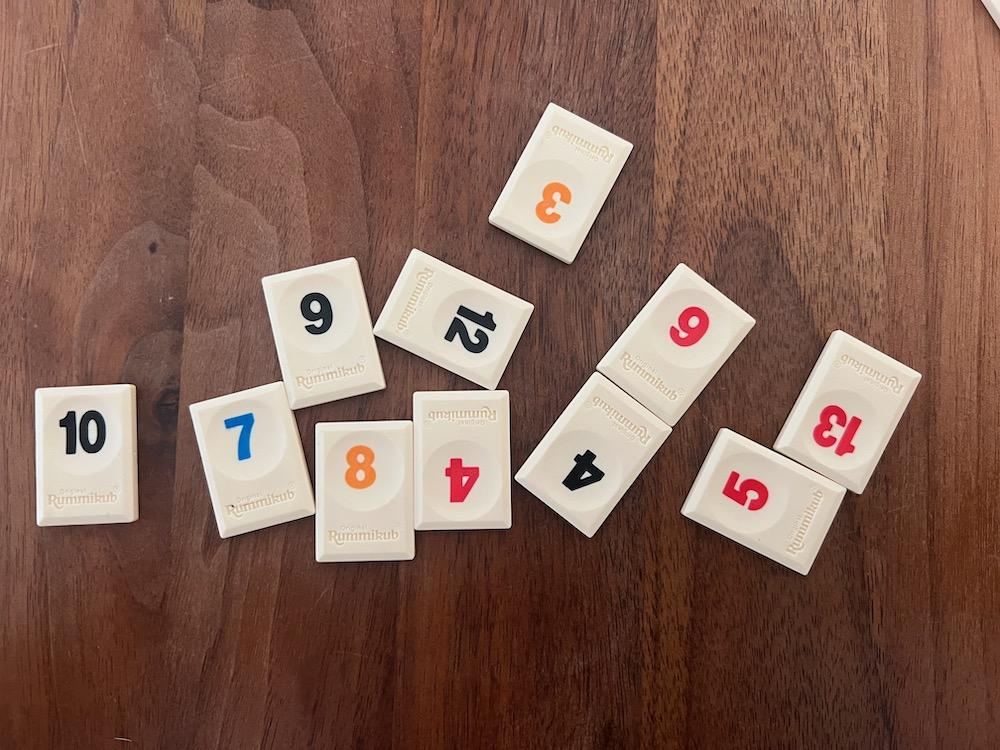black_10: (37, 385, 139, 524)
black_12: (373, 248, 533, 389)
black_4: (516, 373, 672, 537)
black_9: (262, 258, 385, 410)
blue_7: (189, 383, 314, 537)
orange_3: (488, 104, 633, 264)
orange_8: (316, 420, 413, 562)
red_13: (773, 330, 922, 494)
red_4: (414, 392, 512, 531)
red_5: (682, 428, 846, 574)
red_9: (598, 264, 756, 426)
